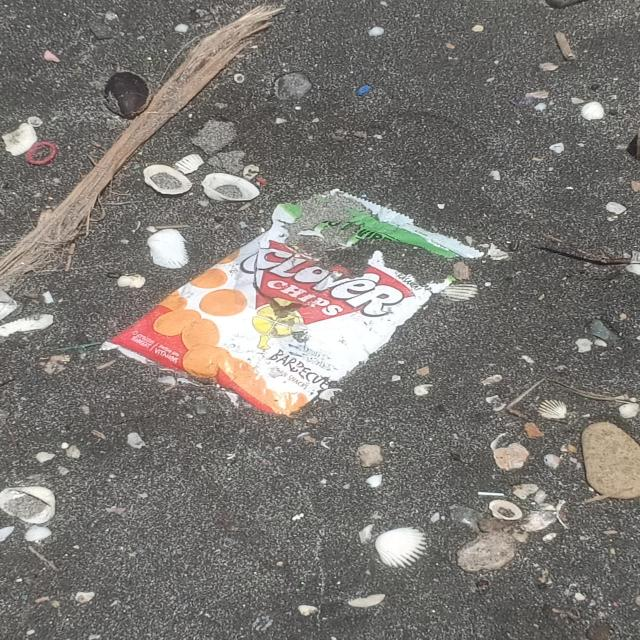plastic_waste: (99, 190, 485, 415)
